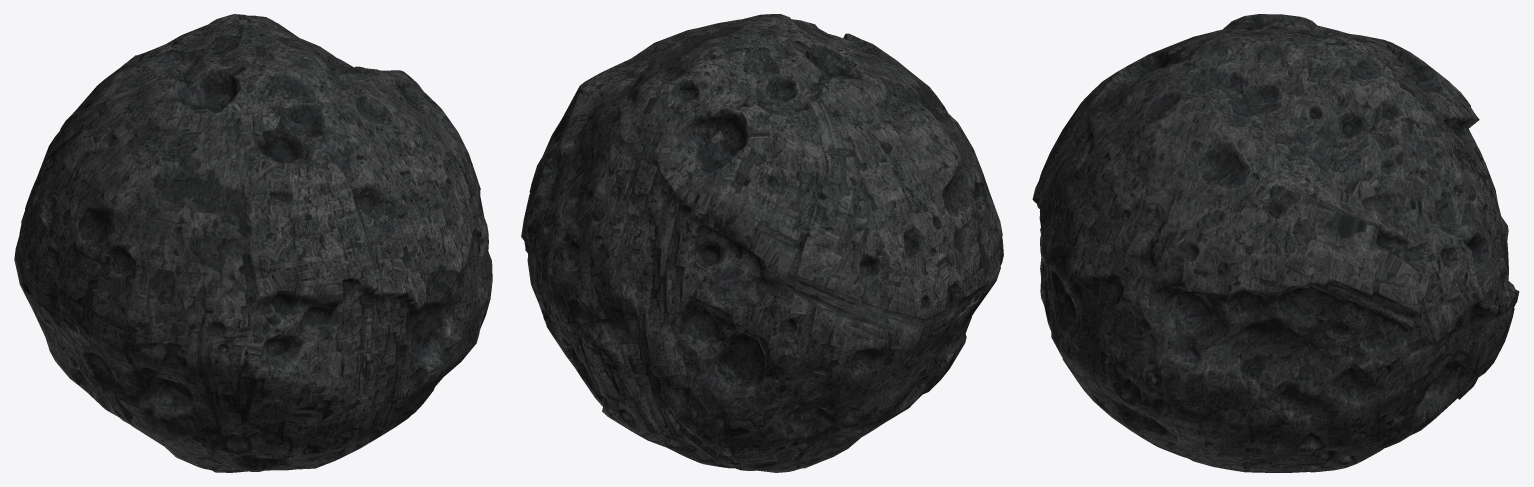
File: moon_rock1.glb
3 views of the same model, side by side, from view 1: azimuth 30°, elevation 25°; view 2: azimuth 150°, elevation 25°; view 3: azimuth 270°, elevation 25° (orthographic). The views are drawn at different scales.
Parts seen in each view (by area): view 1: frame; view 2: frame; view 3: frame.
Part boxes in pixels (x1,y1,x2,y2): frame: [14, 14, 492, 472]; frame: [521, 14, 1003, 472]; frame: [1032, 14, 1519, 472].
Bounding box in the file's own units: 2.62 × 2.6 × 2.67.
1 material, 1 textured.
